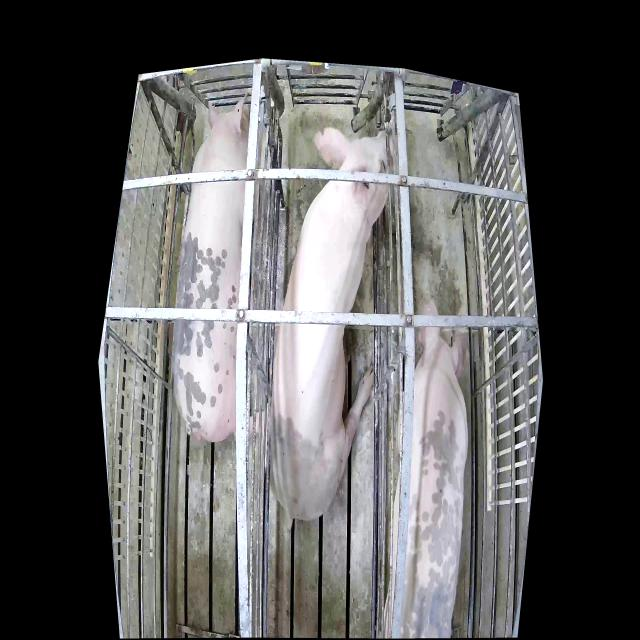pig: (269, 124, 394, 522), (384, 297, 468, 636), (174, 91, 250, 441)
